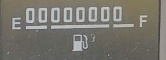grid_pose: (26, 26, 151, 54)
